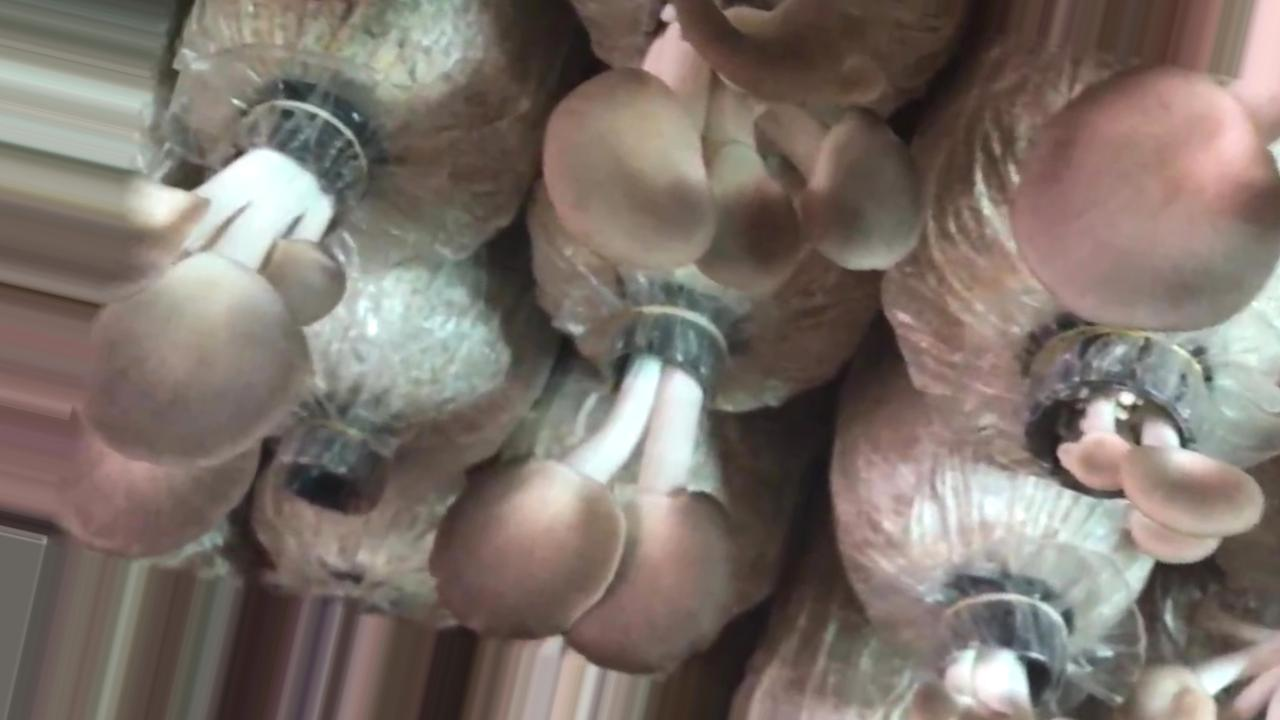nam: (1, 100, 367, 555), (549, 1, 923, 296), (428, 314, 735, 673), (1014, 1, 1280, 331), (1016, 338, 1261, 563), (914, 598, 1062, 720)
